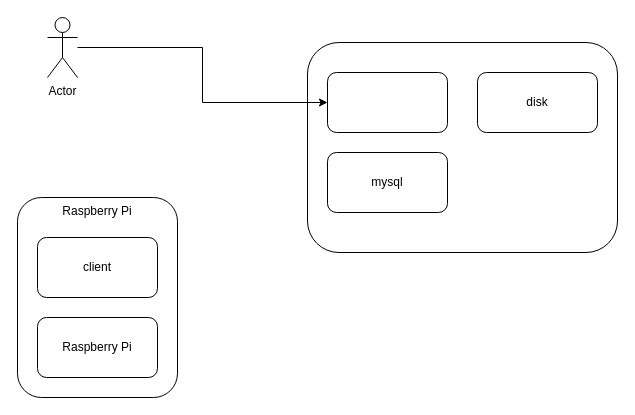
The diagram is 635 pixels wide and 415 high, and some of its shapes have lost their labels. Each missing label, with the box of its shape:
server: (306, 42, 618, 252)
service: (326, 72, 448, 132)
